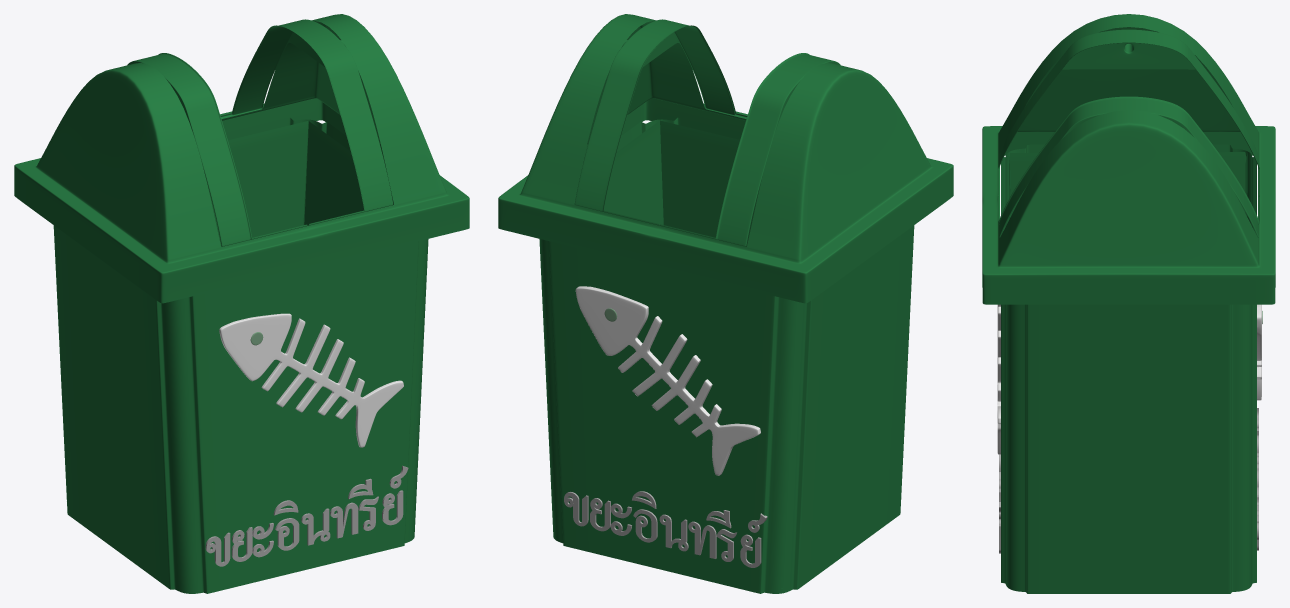
File: Greenbin_have.fbx
3 renders of one model, left to right at view 1: azimuth 30°, elevation 25°; view 2: azimuth 150°, elevation 25°; view 3: azimuth 270°, elevation 25°, orthographic.
Parts seen in each view (by area): view 1: Green_bin:polySurface14; view 2: Green_bin:polySurface14; view 3: Green_bin:polySurface14.
Boxes of the visible parts, x1,y1,x2,y2 form: Green_bin:polySurface14: (14, 14, 469, 593); Green_bin:polySurface14: (498, 14, 953, 593); Green_bin:polySurface14: (982, 14, 1275, 593).
Bounding box in the file's own units: 6.14 × 8.99 × 5.12.
